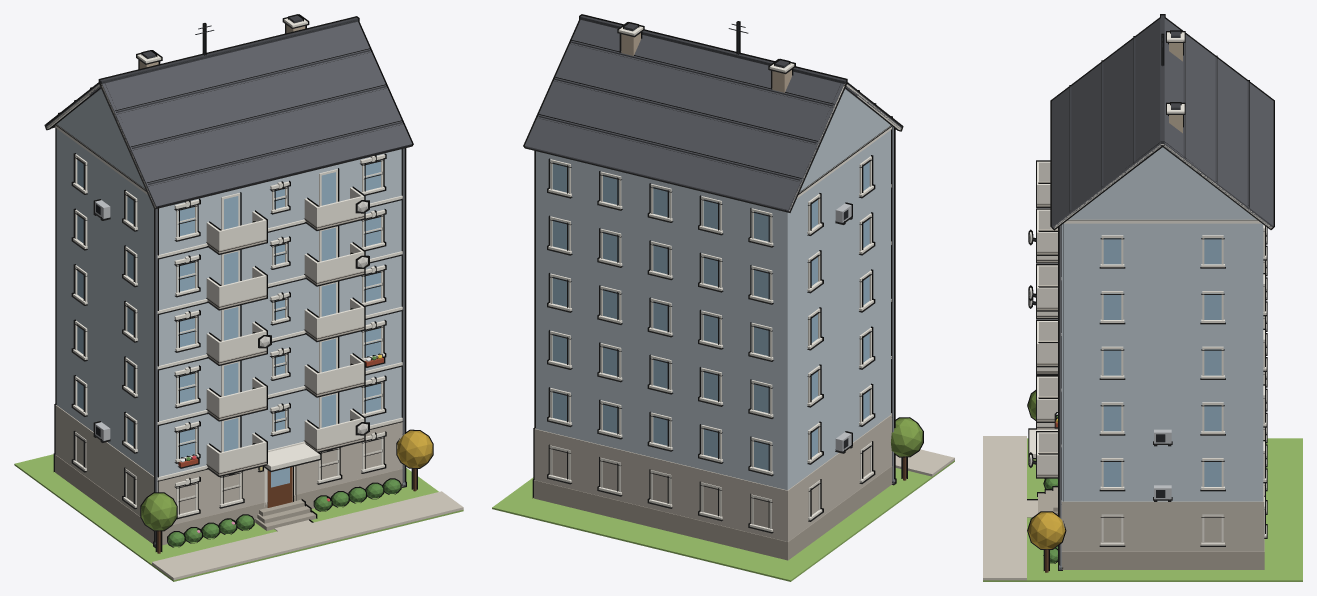
Rendered from Apartman_2_2.fbx.
3 renders of one model, left to right at view 1: azimuth 30°, elevation 25°; view 2: azimuth 150°, elevation 25°; view 3: azimuth 270°, elevation 25°, orthographic. The views are drawn at different scales.
Parts seen in each view (by area): view 1: Apartman_2_2; view 2: Apartman_2_2; view 3: Apartman_2_2.
Boxes of the visible parts, left/top/right/bottom form: Apartman_2_2: left=14, top=14, right=463, bottom=581; Apartman_2_2: left=492, top=14, right=954, bottom=581; Apartman_2_2: left=983, top=14, right=1302, bottom=581.
Size of the model in its own units: 15.31 by 23.38 by 14.57.
